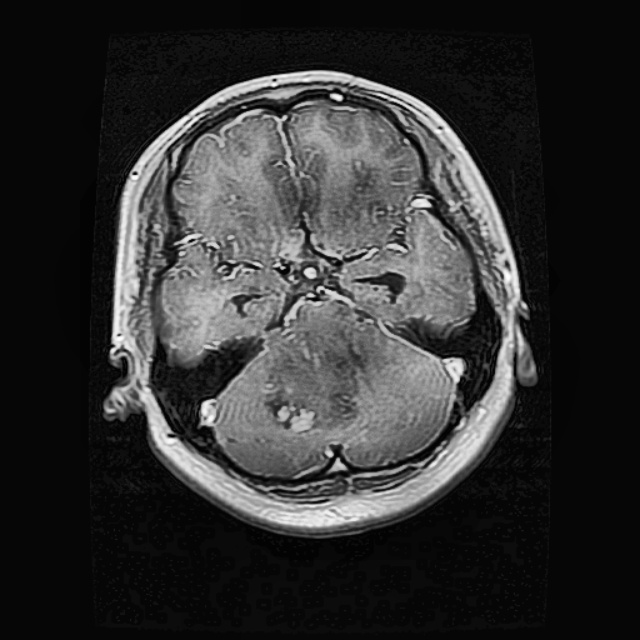Glioma: (265, 305, 354, 420)
